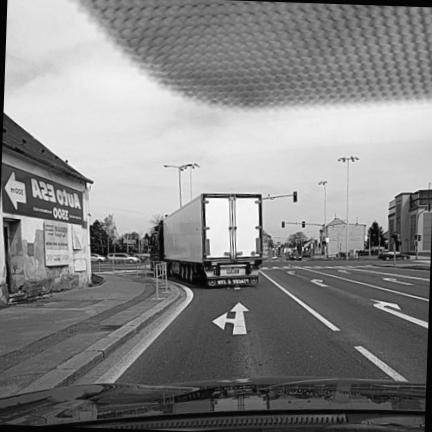Road: (117, 261, 429, 383)
